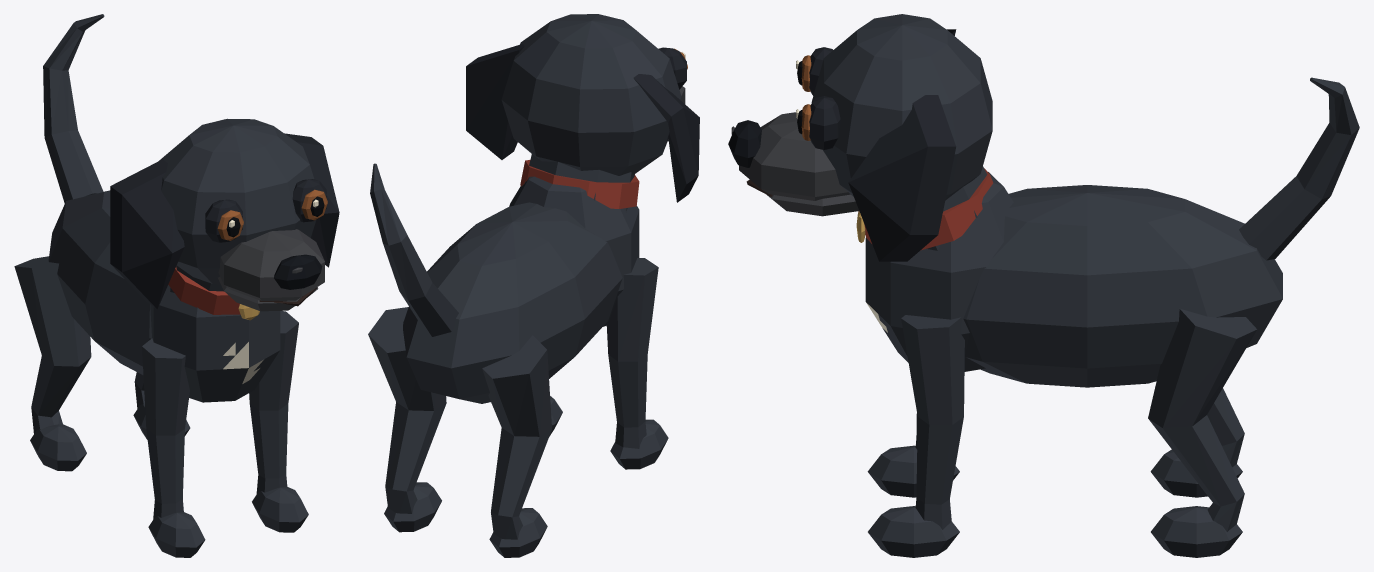
File: feijao.obj
The picture shows the model from 3 angles, left to right: view 1: azimuth 30°, elevation 25°; view 2: azimuth 150°, elevation 25°; view 3: azimuth 270°, elevation 25°; orthographic projection. The views are drawn at different scales.
Visible parts, largest first — view 1: perna, cabeca, tronco, orelha, peito, pata, cauda, focinho, coleira, olho, nariz, iris (+1 smaller); view 2: tronco, perna, cabeca, orelha, cauda, pata, peito, coleira, pescoco, olho; view 3: tronco, perna, cabeca, orelha, peito, pata, cauda, focinho, olho, coleira, mandibula, nariz.
Boxes of the visible parts, x1,y1,x2,y2 form: perna: (14,256,298,519); cabeca: (158,118,316,283); tronco: (48,190,151,374); orelha: (110,133,339,309); peito: (150,285,280,402); pata: (30,404,308,557); cauda: (43,14,104,203); focinho: (218,229,324,300); coleira: (168,267,240,314); olho: (205,179,326,242); nariz: (274,254,322,289); iris: (217,189,327,240); tronco: (403,202,622,403); perna: (368,258,658,539); cabeca: (501,14,681,175); orelha: (466,44,699,202); cauda: (370,163,458,336); pata: (384,396,668,557); peito: (509,176,639,326); coleira: (520,160,639,208); pescoco: (525,153,634,211); olho: (658,47,686,89); tronco: (963,185,1282,387); perna: (901,309,1256,531); cabeca: (811,14,992,200); orelha: (848,29,956,261); peito: (865,172,1013,371); pata: (867,445,1242,557); cauda: (1239,77,1359,260); focinho: (739,112,850,200); olho: (809,47,840,149); coleira: (858,168,993,250); mandibula: (766,194,858,216); nariz: (728,120,761,167).
Bounding box in the file's own units: 1.16 × 2.15 × 2.46.
1 material, 1 textured.
